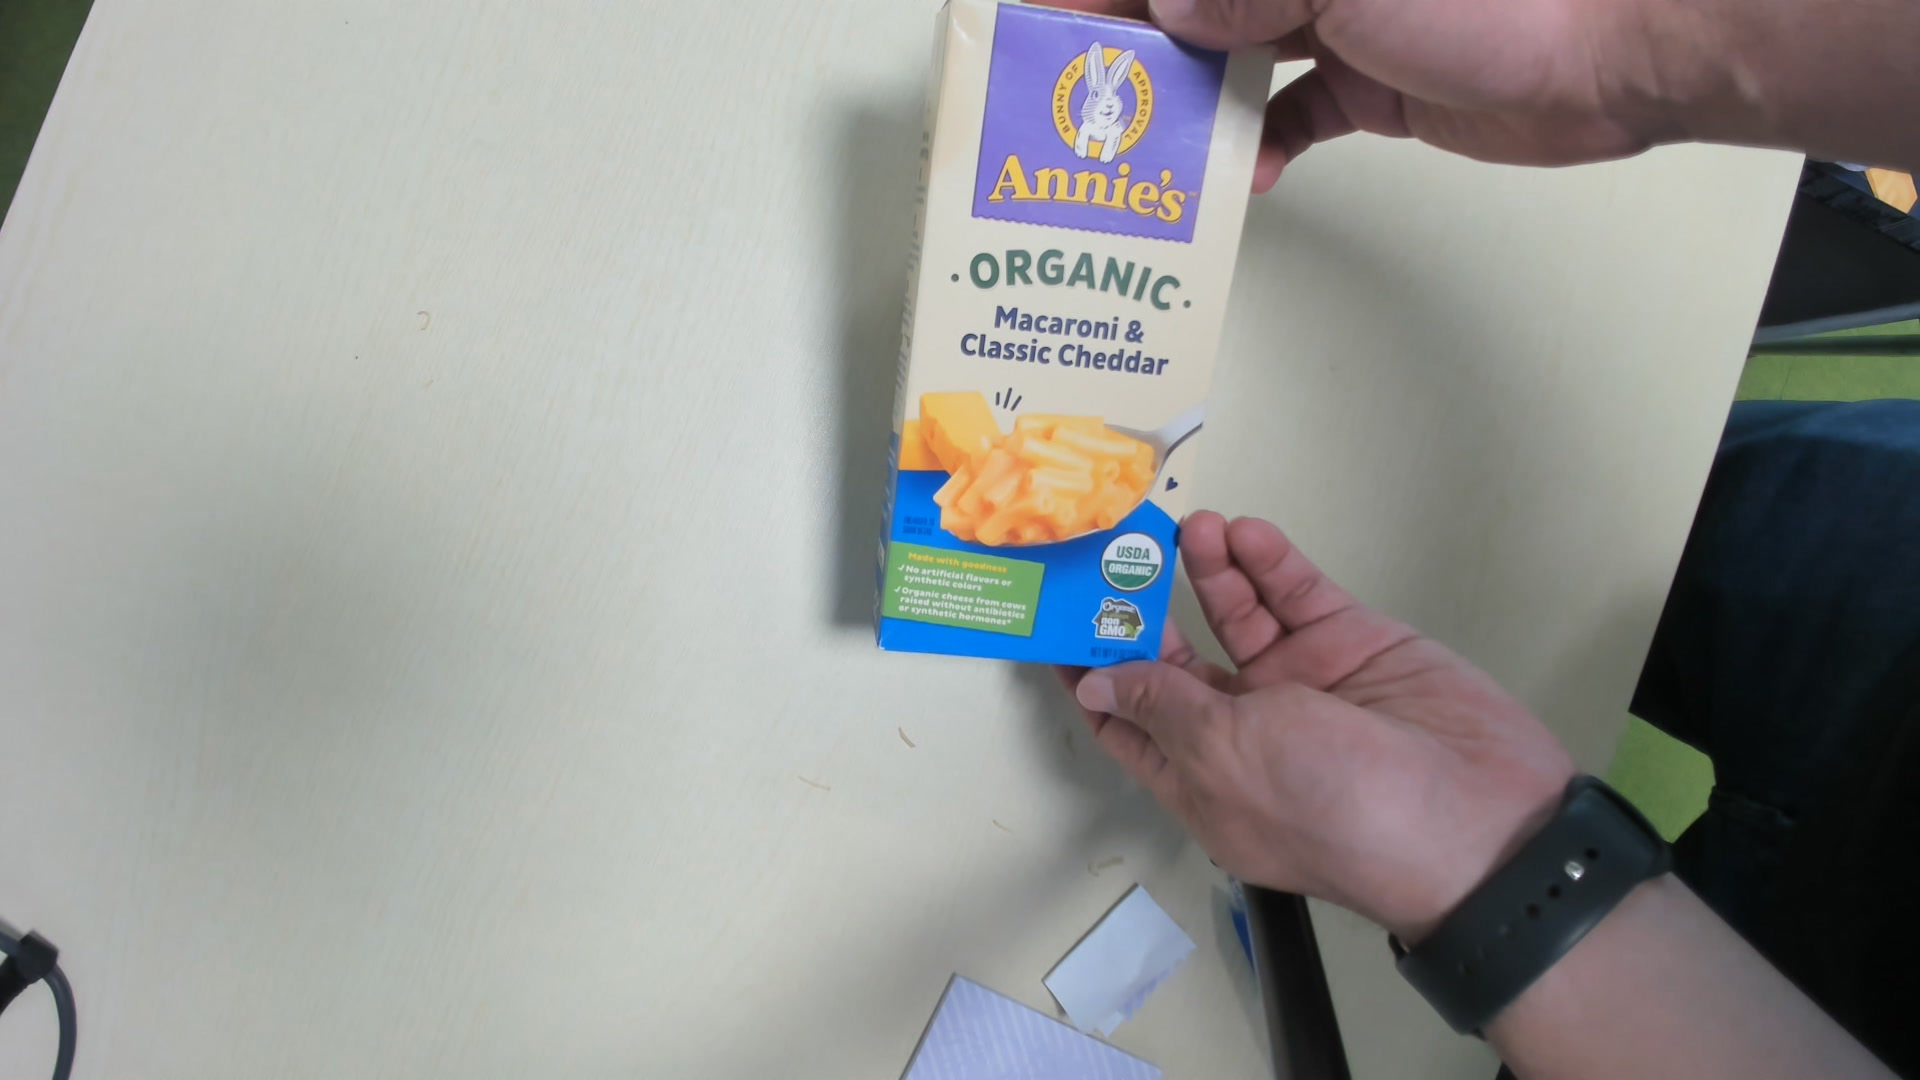InstantMeals_100_199g_NonHalal_NonHealthy: (866, 11, 1263, 673)
